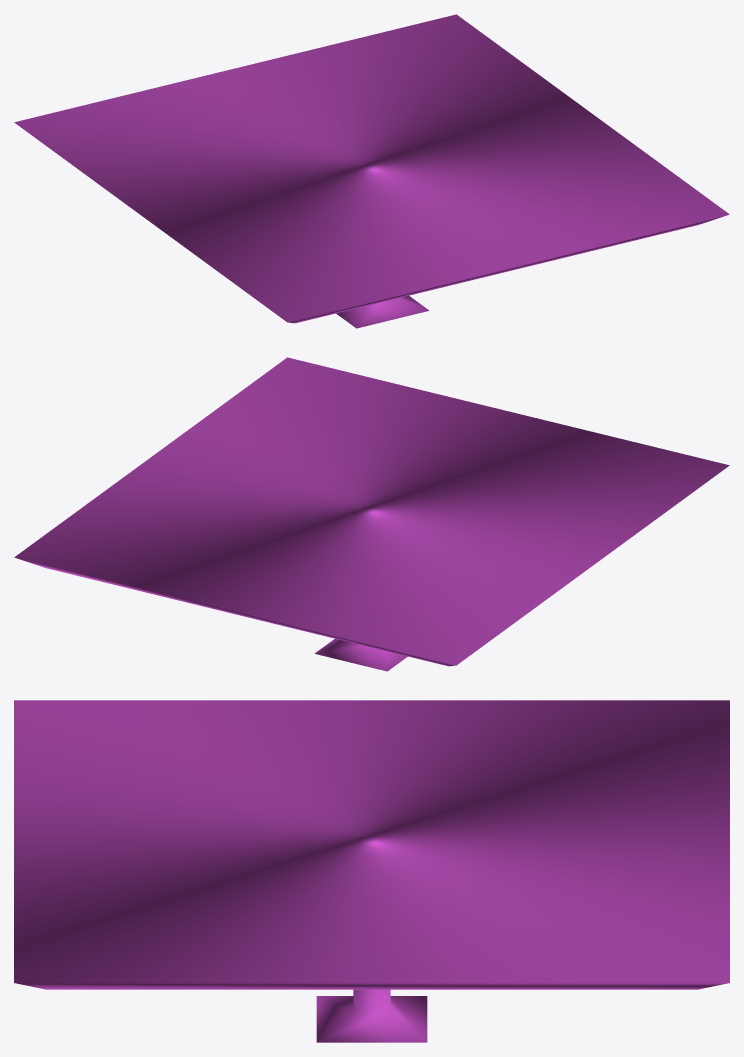
File: table.fbx
3 renders of one model, top to bottom at view 1: azimuth 30°, elevation 25°; view 2: azimuth 150°, elevation 25°; view 3: azimuth 270°, elevation 25°, orthographic. The views are drawn at different scales.
Visible parts, largest first — view 1: tabletest; view 2: tabletest; view 3: tabletest.
Part boxes in pixels (x1,y1,x2,y2): tabletest: (14,14,729,328); tabletest: (14,357,729,671); tabletest: (14,700,729,1042).
Bounding box in the file's own units: 2.68 × 0.7865 × 2.87.
